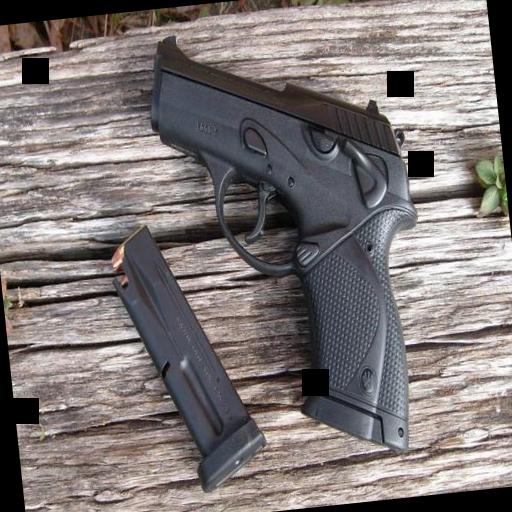Handgun: (136, 7, 444, 490)
